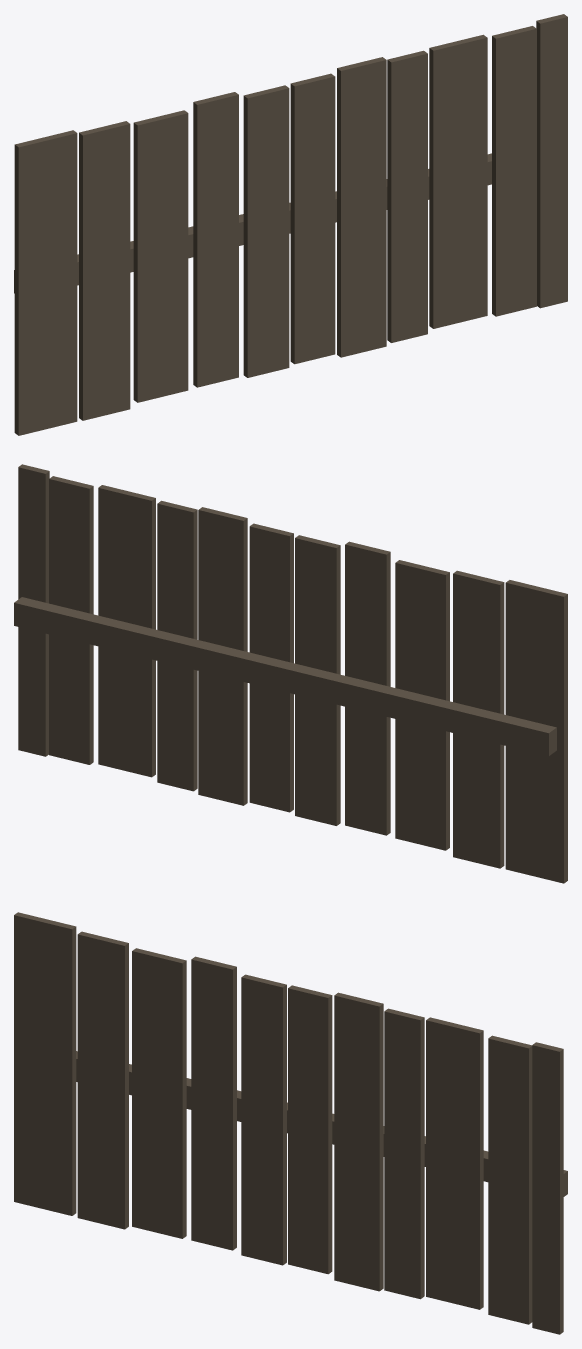
Rendered from bretter_2x1.glb.
The picture shows the model from 3 angles, top to bottom: view 1: azimuth 30°, elevation 25°; view 2: azimuth 150°, elevation 25°; view 3: azimuth 330°, elevation 25°; orthographic projection.
Visible parts, largest first — view 1: bretter_2x1; view 2: bretter_2x1; view 3: bretter_2x1.
Boxes of the visible parts, x1,y1,x2,y2 form: bretter_2x1: [14, 14, 567, 435]; bretter_2x1: [14, 464, 567, 883]; bretter_2x1: [14, 912, 567, 1334].
Bounding box in the file's own units: 1.98 × 0.9959 × 0.075.
